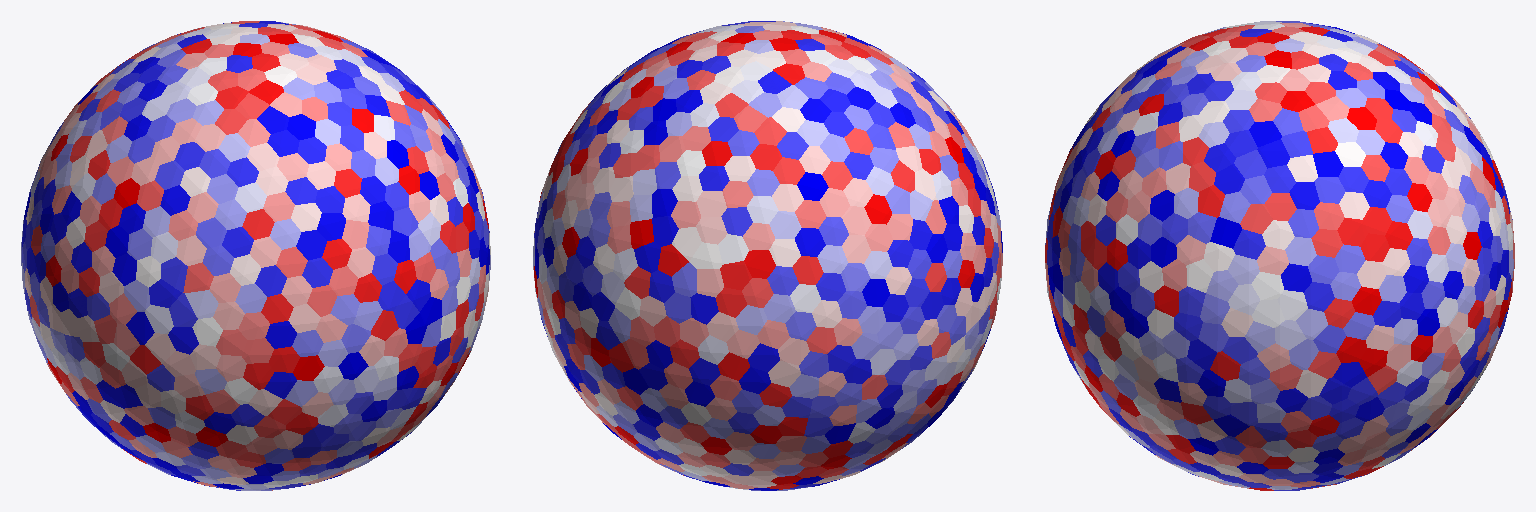
3 renders of one model, left to right at view 1: azimuth 30°, elevation 25°; view 2: azimuth 150°, elevation 25°; view 3: azimuth 270°, elevation 25°, orthographic.
Visible parts, largest first — view 1: 3D_Object; view 2: 3D_Object; view 3: 3D_Object.
Part boxes in pixels (left/top/right/bottom): 3D_Object: left=21, top=21, right=490, bottom=490; 3D_Object: left=533, top=21, right=1002, bottom=490; 3D_Object: left=1045, top=21, right=1514, bottom=490.
Size of the model in its own units: 2 by 2 by 2.
1 materials, 1 textured.